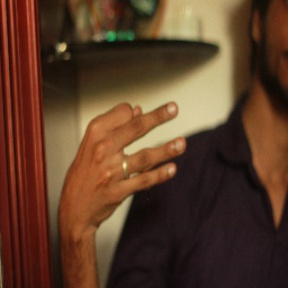K: (61, 99, 190, 217)
